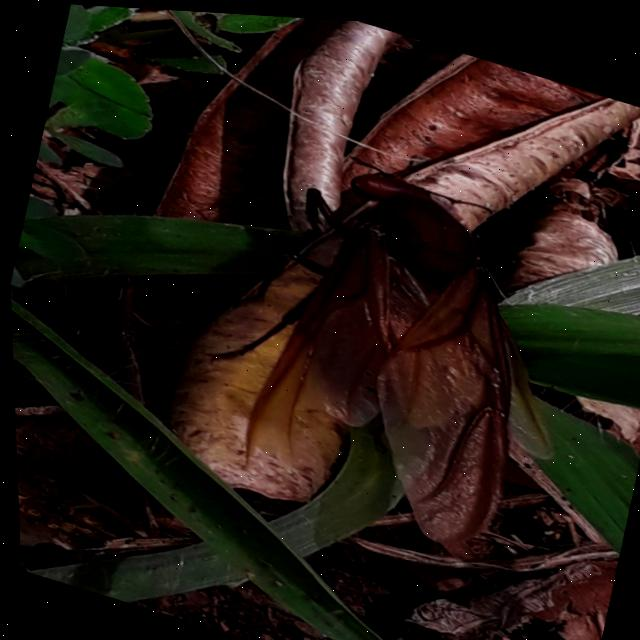Alive-Female-Alate: (171, 119, 611, 567)
